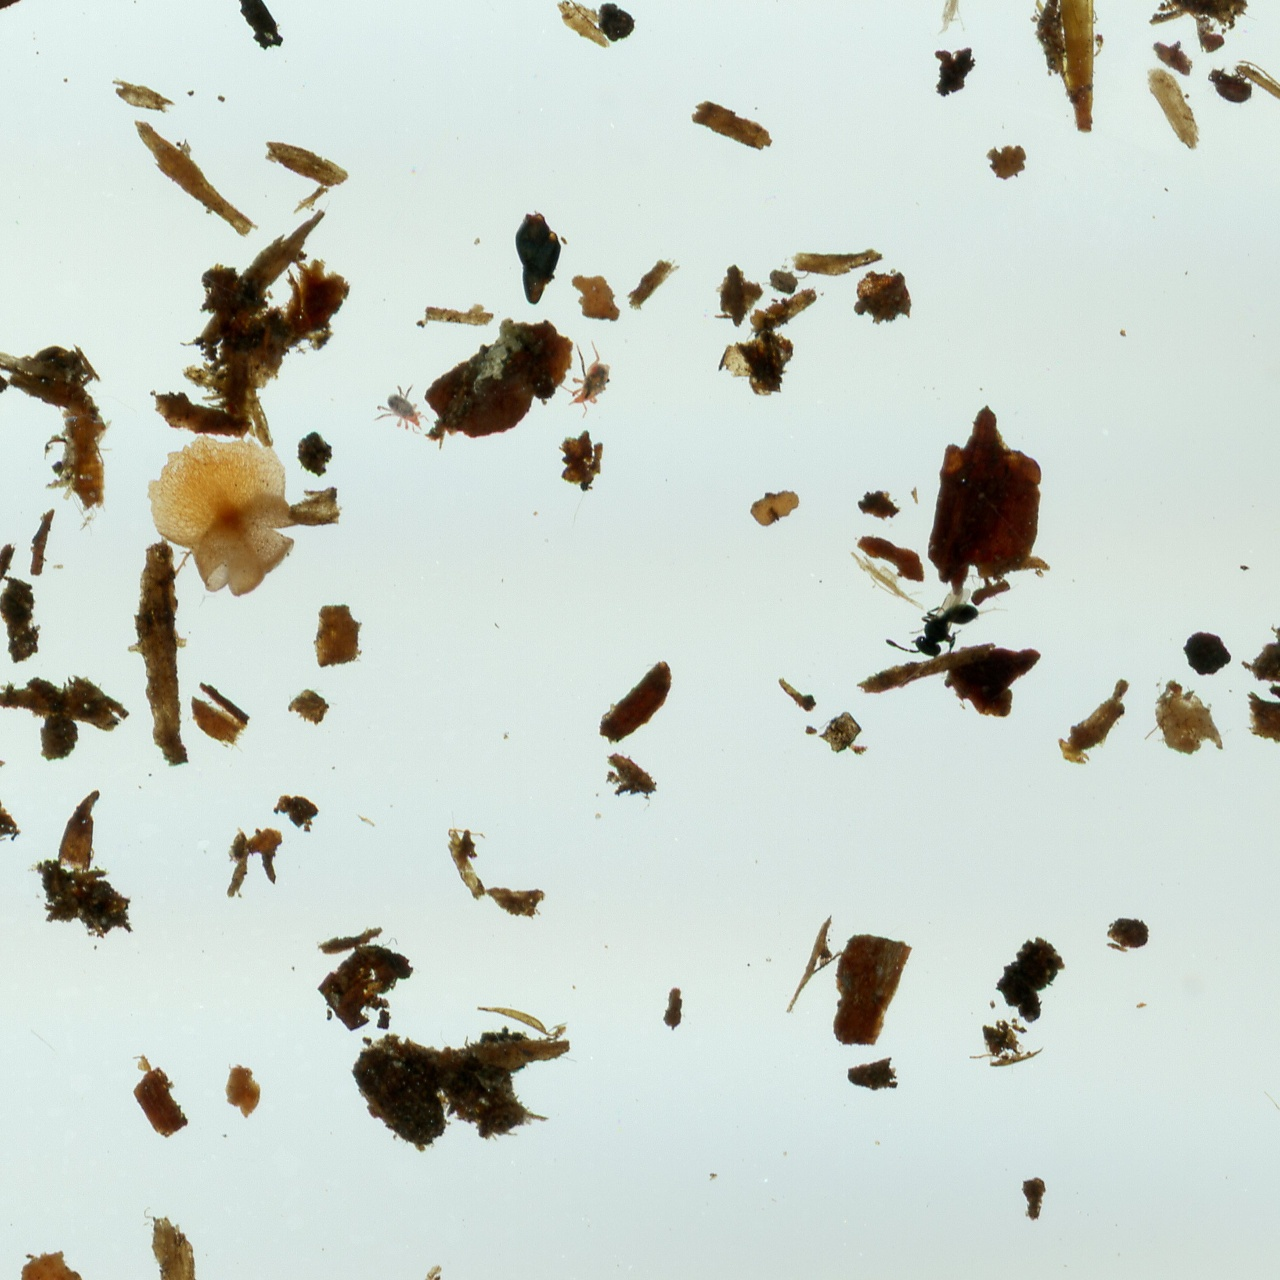arthropod: (880, 580, 983, 662), (557, 336, 613, 421), (1199, 57, 1264, 113), (373, 382, 430, 436)
